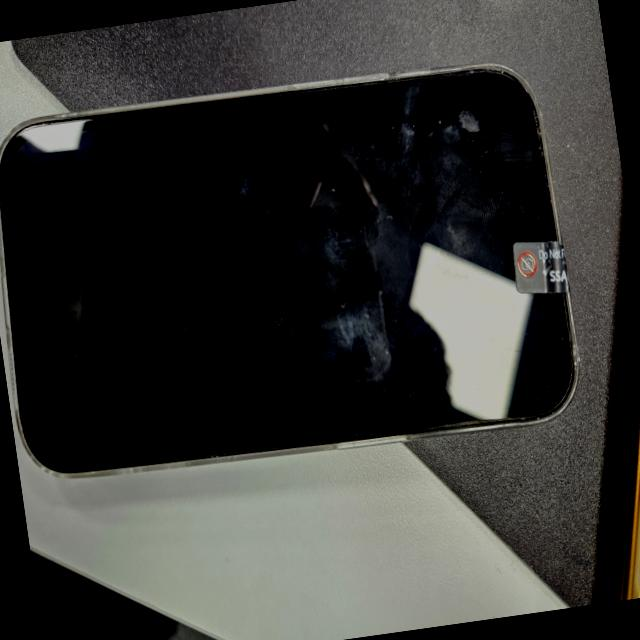phone: (0, 46, 586, 491)
sticker: (511, 240, 566, 294)
